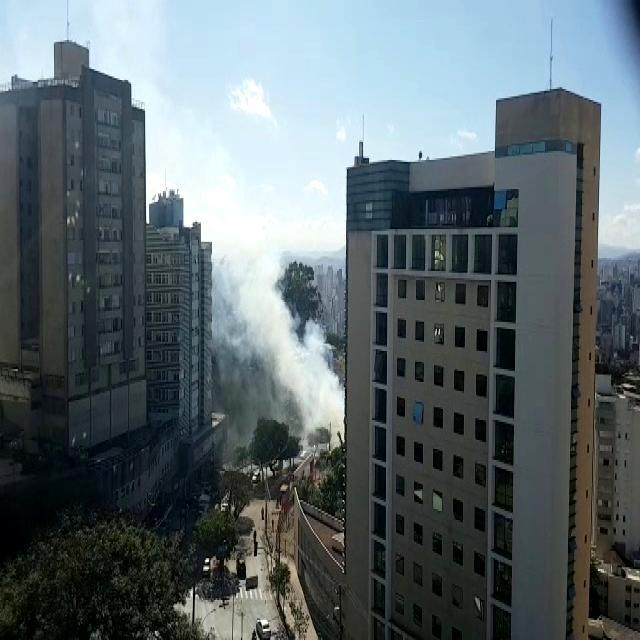Smoke: (227, 253, 349, 464)
